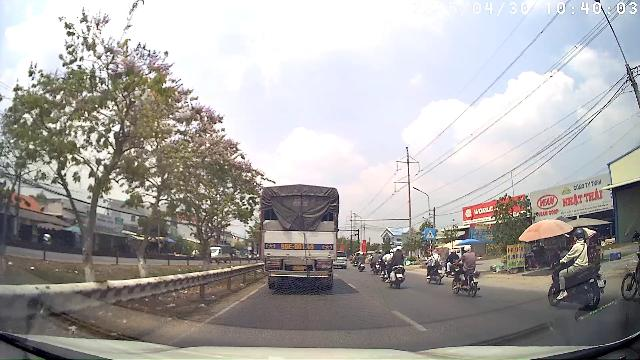423a-duong-nguoi-di-bo-sang-ngang-1: (425, 229, 435, 239)
